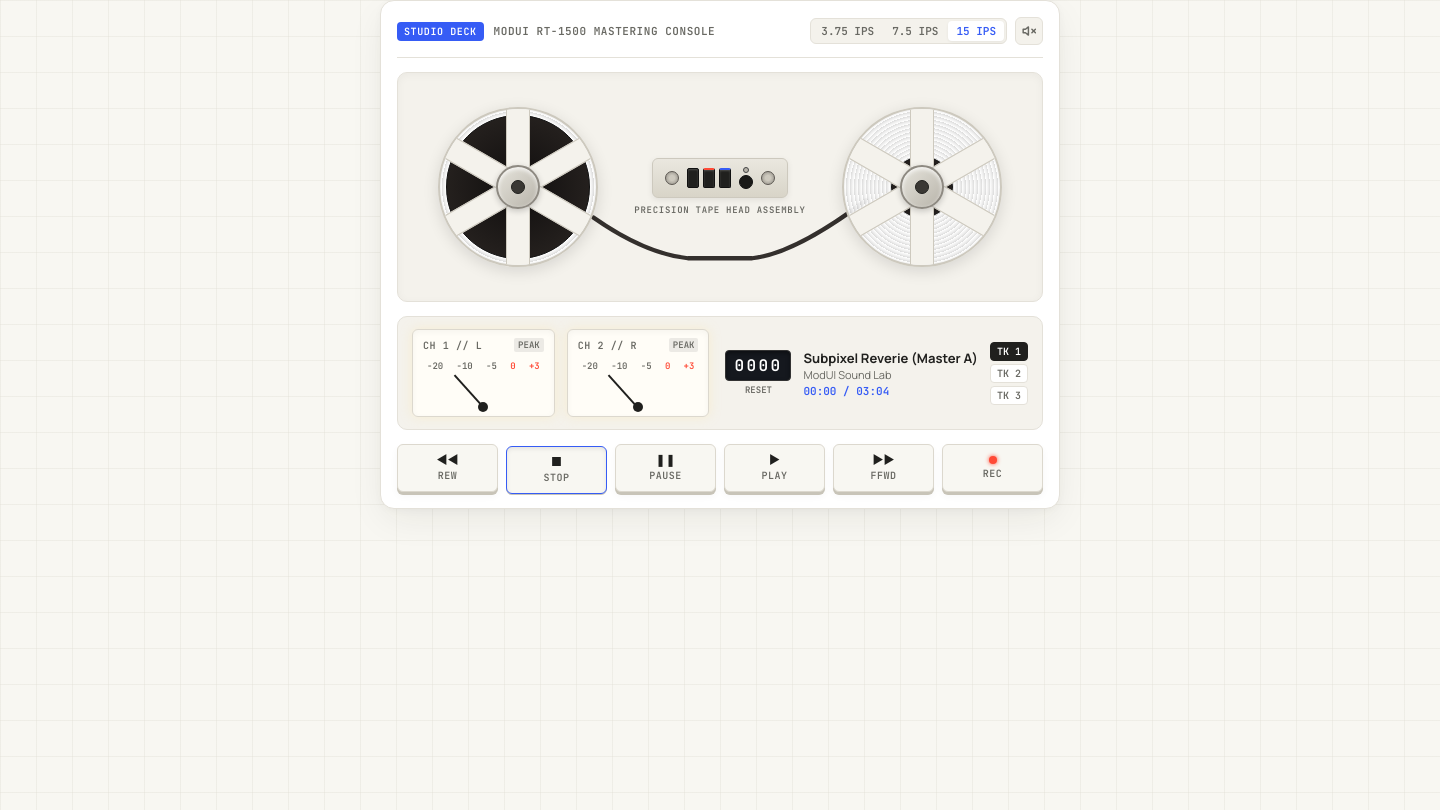
ReelTapeDeck component › switches tracks when track selection buttons are clicked
Click the button "TK 2". click: [1009, 373]
box: [990,364,1028,382]
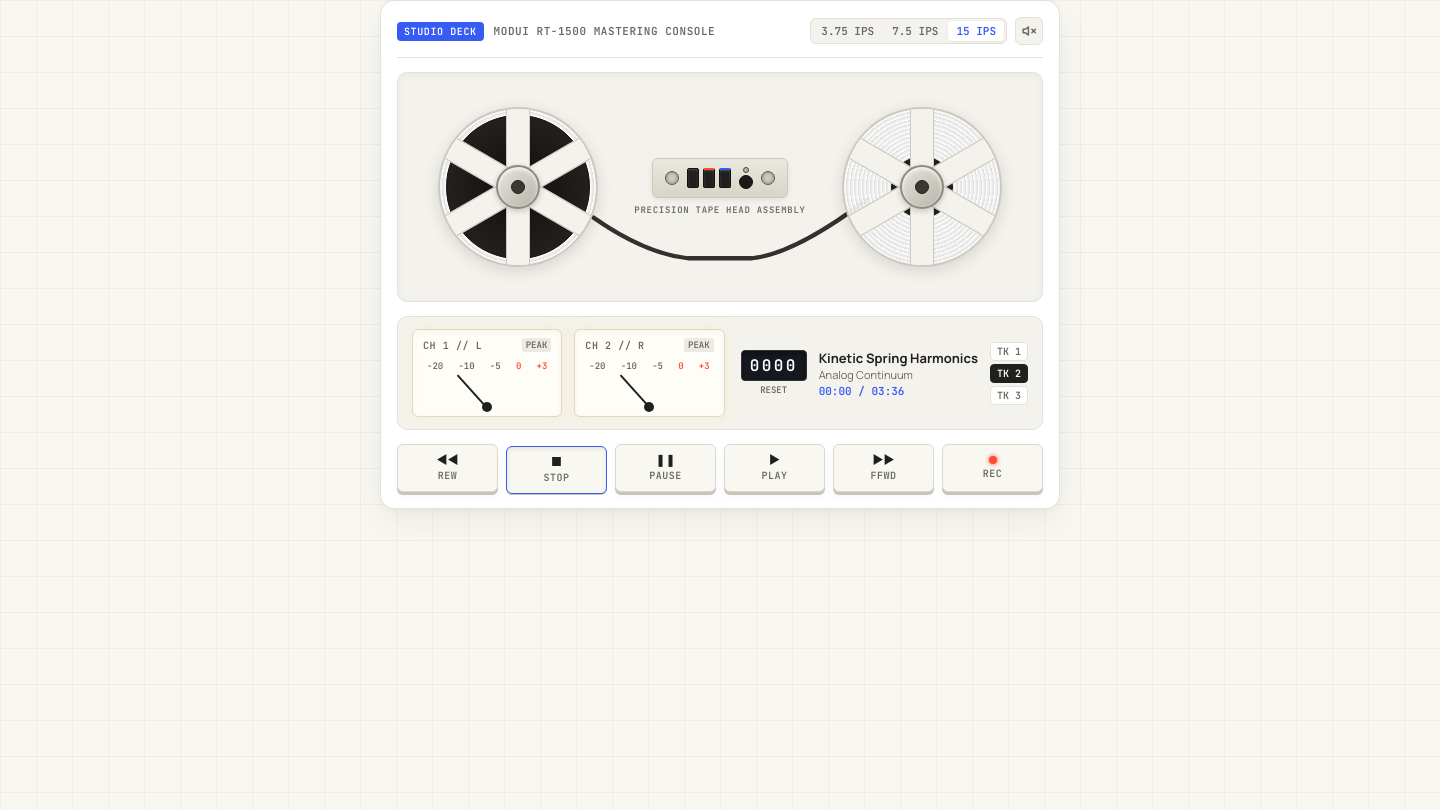
Expected: the text "Kinetic Spring Harmonics" is shown, [819,348,978,366]
